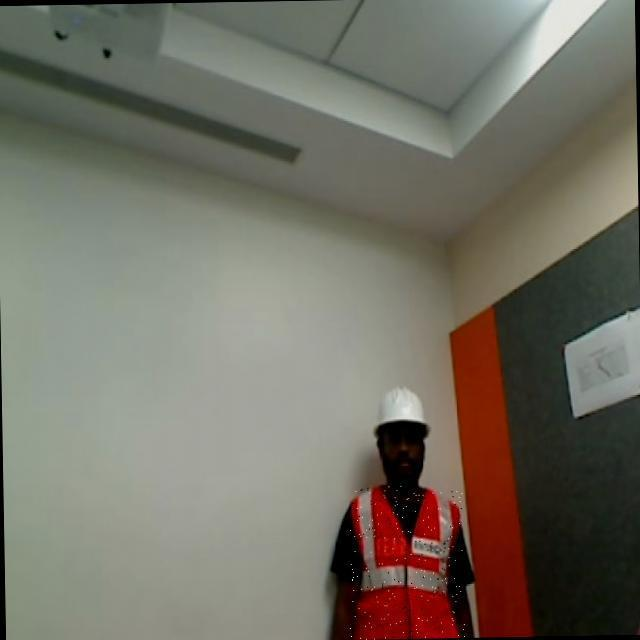helmet: (367, 377, 439, 456)
vest: (347, 485, 465, 640)
